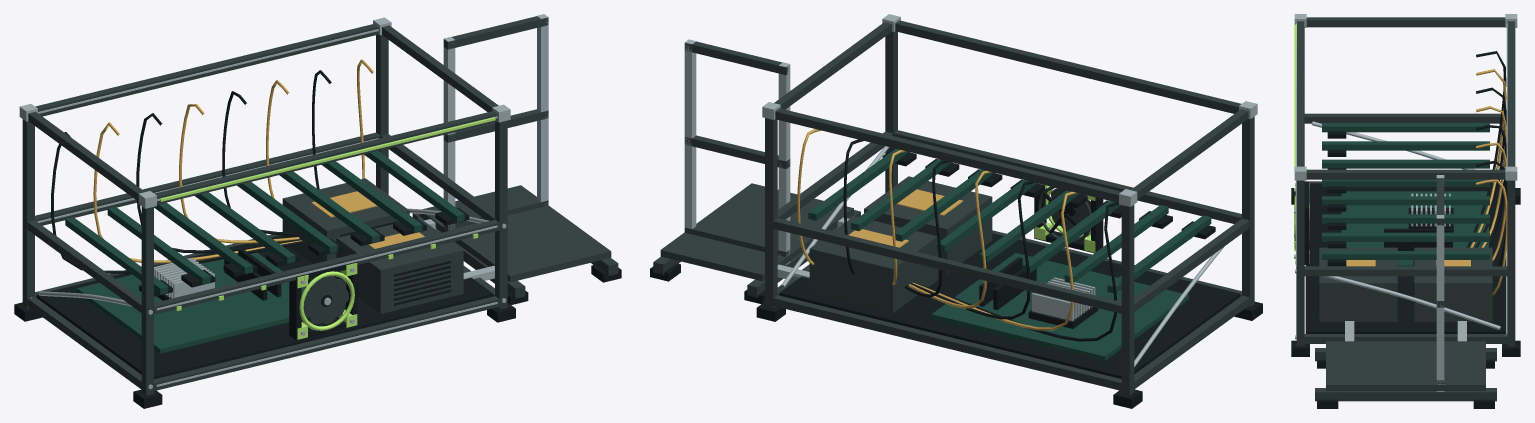
File: rig-runtime-8-none-bracket.glb
3 renders of one model, left to right at view 1: azimuth 30°, elevation 25°; view 2: azimuth 150°, elevation 25°; view 3: azimuth 270°, elevation 25°, orthographic. The views are drawn at different scales.
Visible parts, largest first — view 1: Anodized graphite (×3), Circuit board, Rubber and ABS (×2), Brushed aluminium (×2), rig-runtime-8-none-bracket, Lime accents, Contacts, slot-cable-1, slot-cable-2, slot-cable-3, slot-cable-4, slot-cable-5; view 2: Anodized graphite (×2), Circuit board, Rubber and ABS (×2), Brushed aluminium (×2), Contacts, slot-cable-1, slot-cable-2, slot-cable-3, slot-cable-4, slot-cable-5, Lime accents; view 3: Anodized graphite (×2), Circuit board, Rubber and ABS (×3), Brushed aluminium (×2), slot-cable-1, slot-cable-2, slot-cable-3, slot-cable-8, Contacts, slot-cable-4, slot-cable-5, rig-runtime-8-none-bracket (+2 smaller).
Part boxes in pixels (x1,y1,x2,y2): Anodized graphite (×3): (22,16,618,395); Circuit board: (65,151,464,353); Rubber and ABS (×2): (14,207,515,408); Brushed aluminium (×2): (19,14,548,389); rig-runtime-8-none-bracket: (160,117,495,201); Lime accents: (297,263,357,339); Contacts: (311,191,424,248); slot-cable-1: (51,132,303,273); slot-cable-2: (93,122,301,263); slot-cable-3: (136,113,300,253); slot-cable-4: (179,104,299,243); slot-cable-5: (222,91,295,235); Anodized graphite (×2): (653,20,1254,395); Circuit board: (808,148,1211,360); Rubber and ABS (×2): (756,148,1262,408); Brushed aluminium (×2): (684,14,1257,367); Contacts: (848,189,963,247); slot-cable-1: (913,202,1118,341); slot-cable-2: (912,191,1076,330); slot-cable-3: (911,181,1034,319); slot-cable-4: (909,170,991,308); slot-cable-5: (904,160,948,297); Lime accents: (1035,183,1095,252); Anodized graphite (×2): (1296,17,1515,401); Circuit board: (1322,123,1489,266); Rubber and ABS (×3): (1291,131,1520,408); Brushed aluminium (×2): (1294,14,1517,391); slot-cable-1: (1467,51,1506,247); slot-cable-2: (1470,69,1506,247); slot-cable-3: (1475,87,1506,247); slot-cable-8: (1476,179,1507,295); Contacts: (1346,260,1470,266); slot-cable-4: (1476,106,1506,247); slot-cable-5: (1476,125,1506,247); rig-runtime-8-none-bracket: (1294,24,1296,170).
Size of the model in its own units: 8.02 by 3.32 by 3.66.
